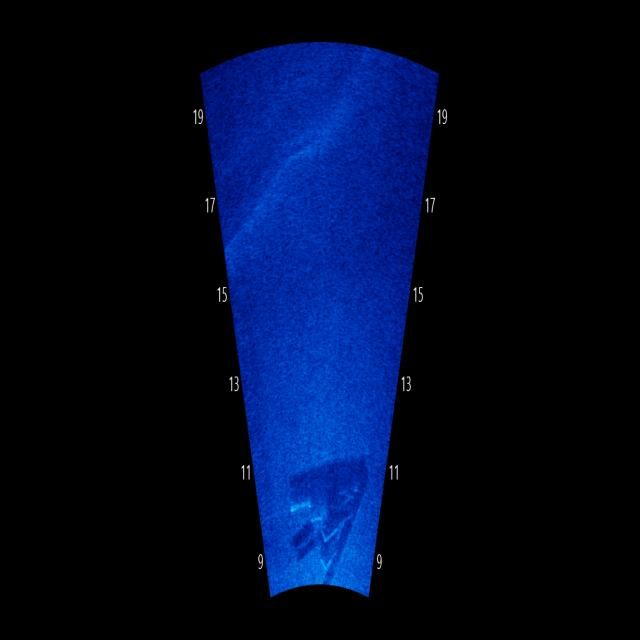triangle: (284, 400, 374, 584)
